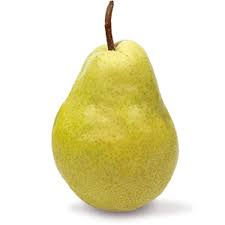pear: (56, 39, 179, 224)
